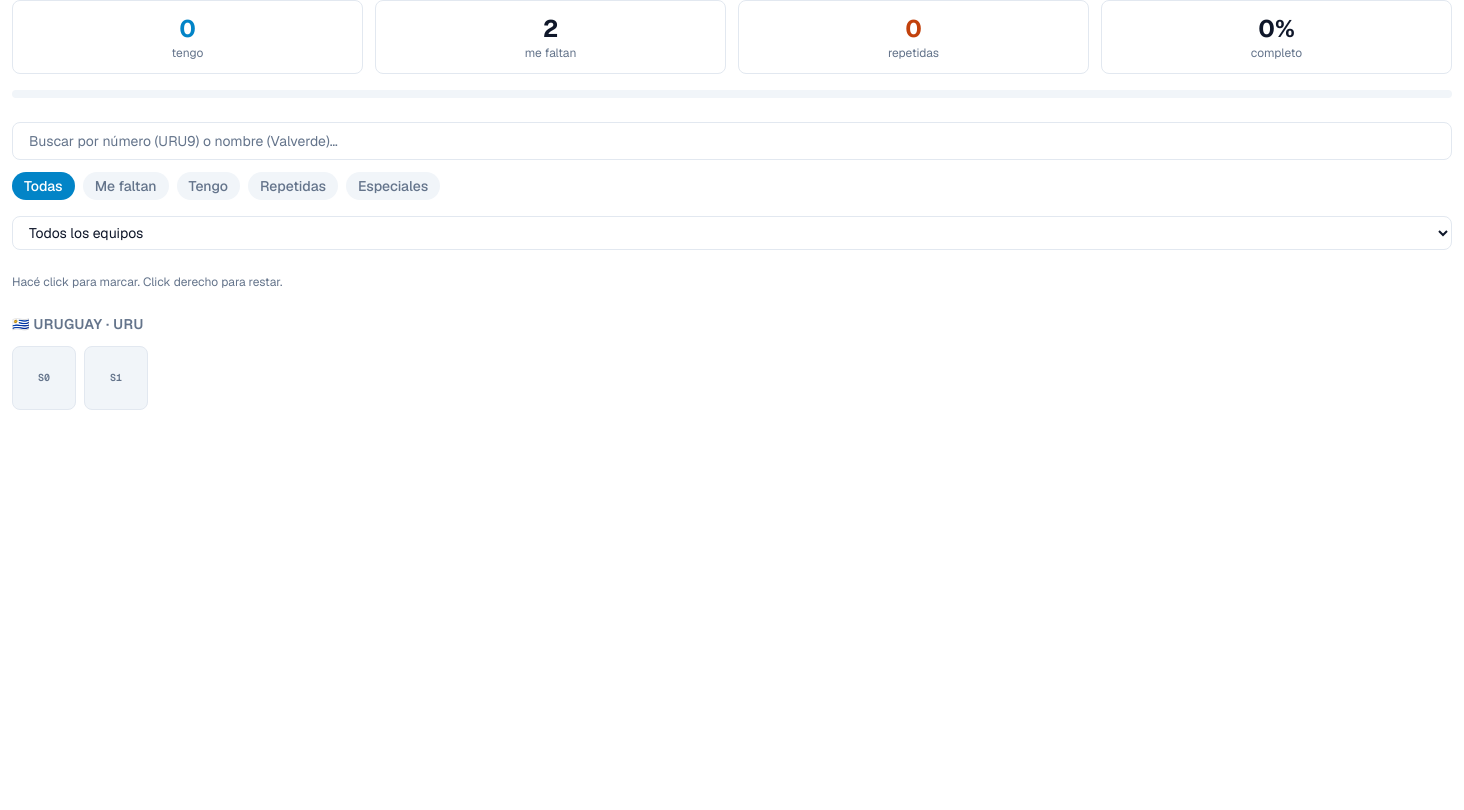
Scenario: AlbumClient — guardado en bulk › ante 4xx no reintenta y muestra error (purga el cambio veneno) (M2)
Step 1. Click the button "S0" → [44, 378], box [12,346,76,410]
Wait 900 ms
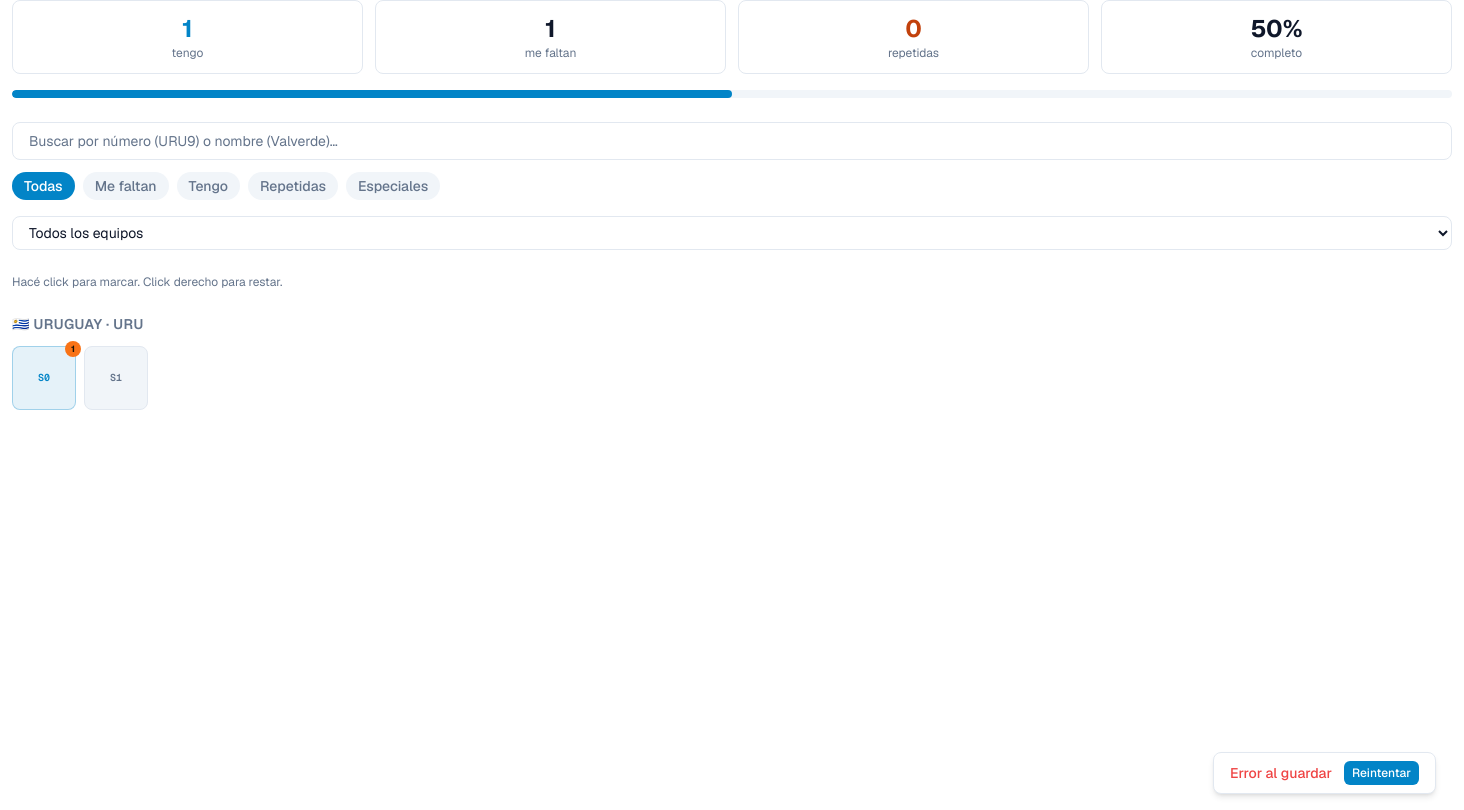
Expected: the text "Error al guardar" is shown, [1230,763,1332,783]
